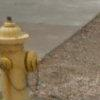Hydrant: (2, 11, 43, 98)
